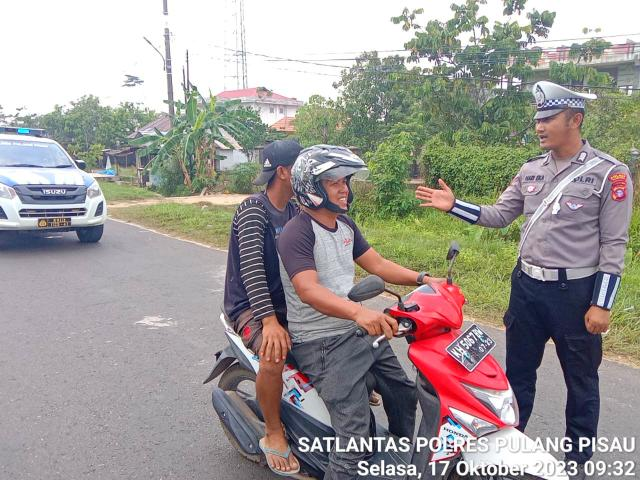helm: (291, 145, 369, 218)
motor: (203, 240, 575, 480)
non-helm: (252, 141, 310, 210)
